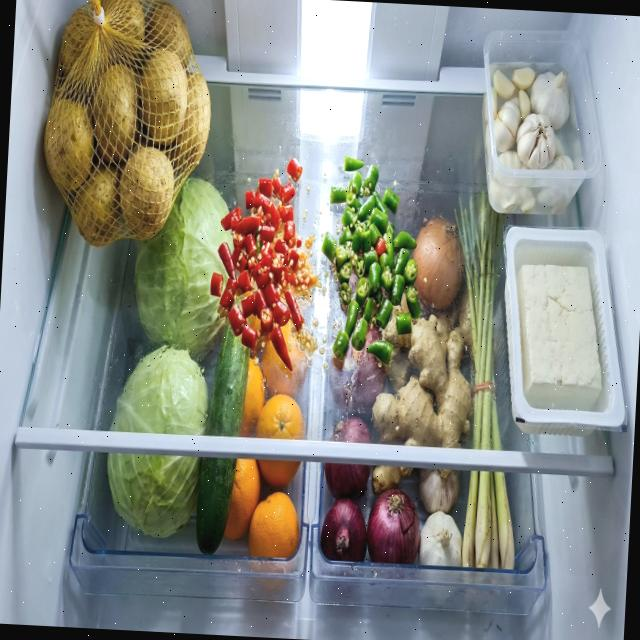cabbage: (103, 342, 213, 542), (130, 175, 238, 362)
chili: (316, 153, 431, 365), (206, 154, 312, 372)
cucumber: (195, 316, 252, 556)
garlic: (478, 64, 580, 216), (415, 466, 467, 566)
ginger: (368, 282, 482, 502)
lemongrass: (436, 188, 534, 572)
onion: (319, 462, 424, 566), (410, 217, 466, 312)
orange: (240, 317, 310, 440), (222, 458, 304, 560)
potato: (39, 0, 218, 250)
tofu: (510, 264, 609, 412)
